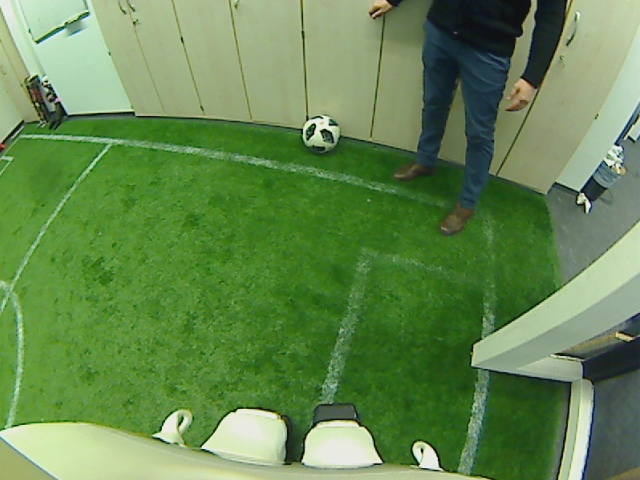ball: (300, 114, 341, 152)
